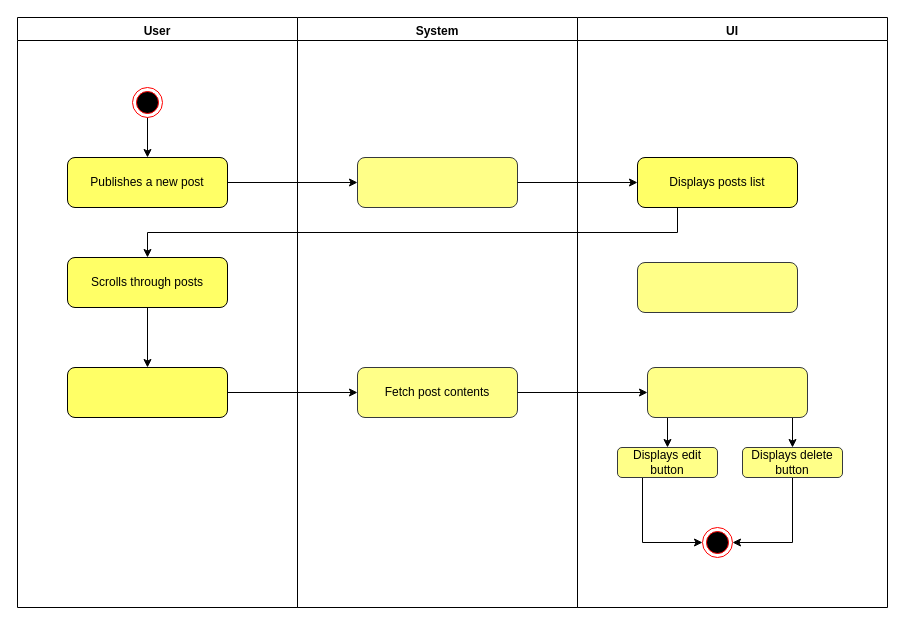
Image size: 905x625. Some labels were removed from this diagram. Here are the shapes that lost their labels. From the top down, the centre of each, then its label:
At (x=437, y=182): "Retrieves post data from db".
At (x=717, y=287): "Shows error".
At (x=147, y=392): "Clicks on a post".
At (x=727, y=392): "Displays post".
